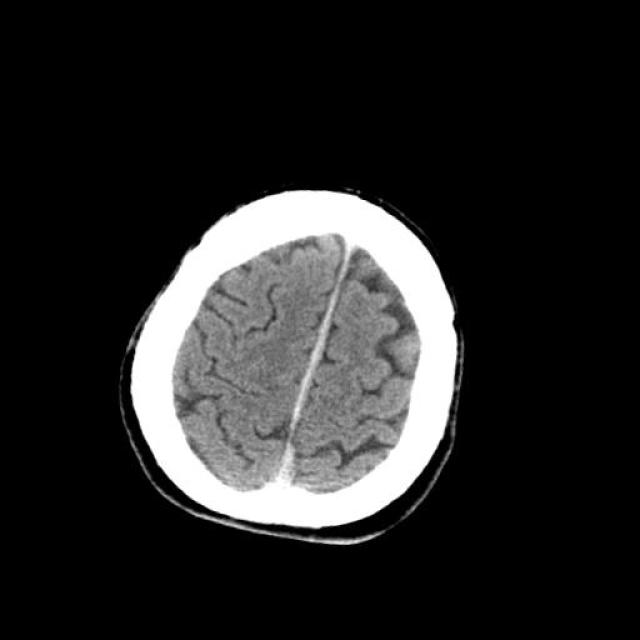Subdural: (260, 225, 368, 507)
